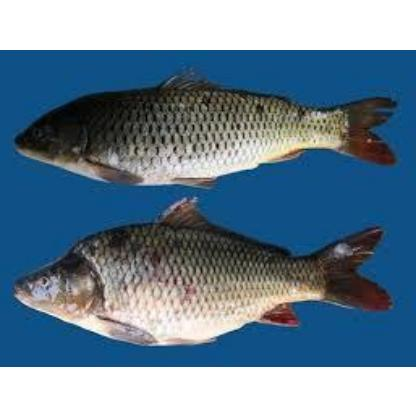ikan-mas: (16, 217, 382, 347), (20, 76, 392, 192)
